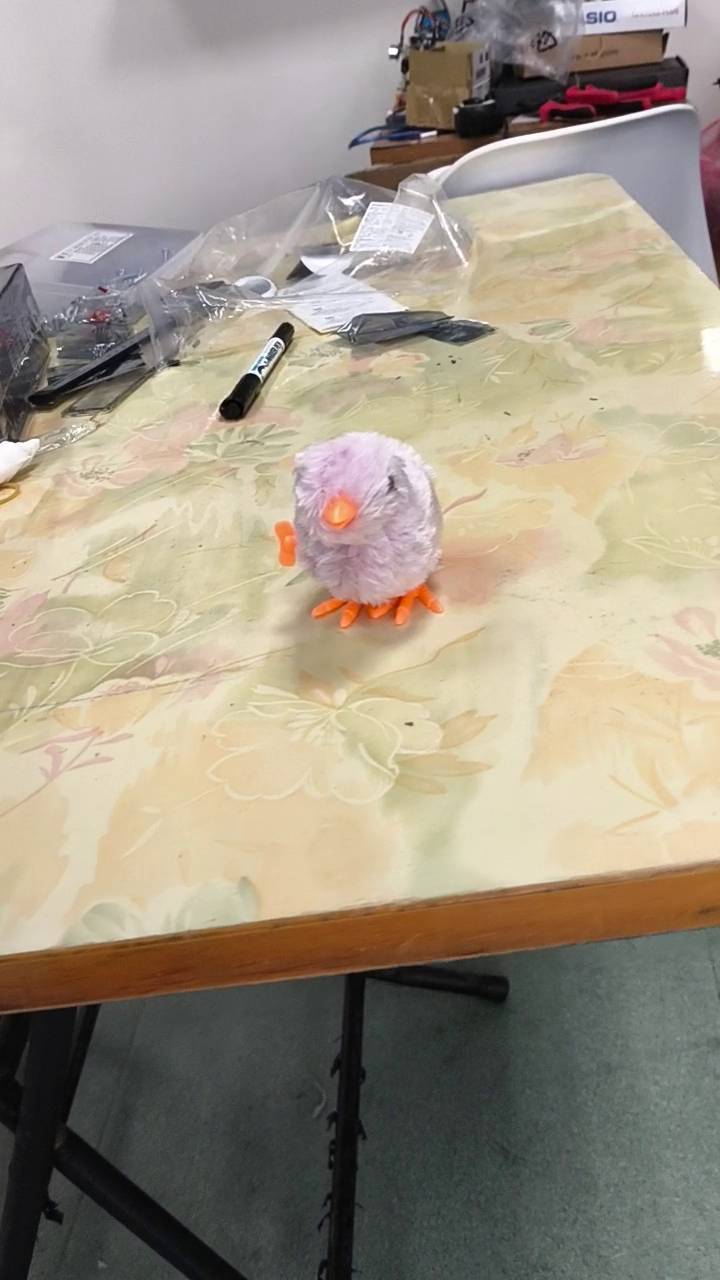pink chicken: (268, 425, 452, 630)
